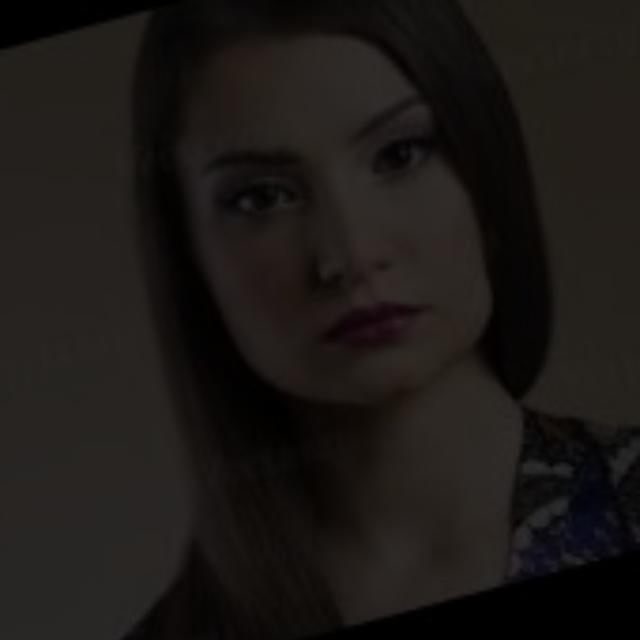Natural: (129, 40, 589, 429)
